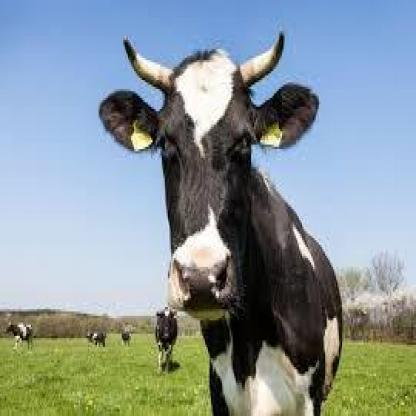cow: (99, 55, 342, 416), (154, 310, 179, 375), (3, 320, 32, 352)
